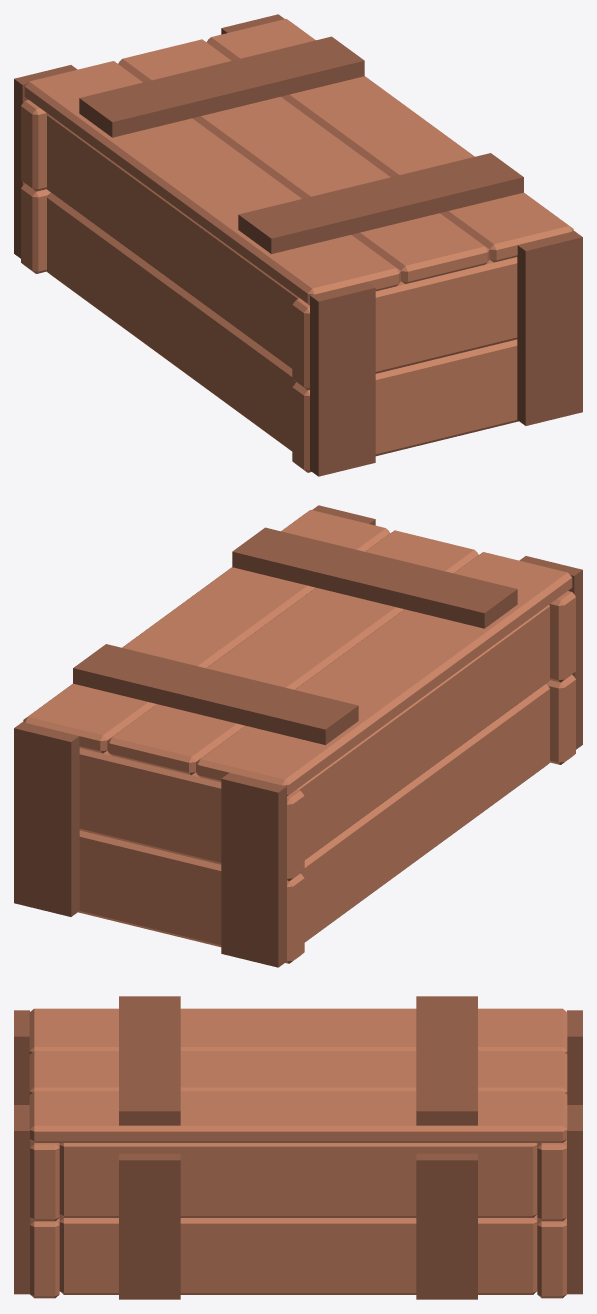
File: Crate.glb
3 views of the same model, one above another, from view 1: azimuth 30°, elevation 25°; view 2: azimuth 150°, elevation 25°; view 3: azimuth 270°, elevation 25° (orthographic). The views are drawn at different scales.
Parts seen in each view (by area): view 1: Crate; view 2: Crate; view 3: Crate.
Part boxes in pixels (x1,y1,x2,y2): Crate: (14,14,582,476); Crate: (14,505,582,967); Crate: (14,996,582,1299).
Bounding box in the file's own units: 86.38 × 58.6 × 163.
